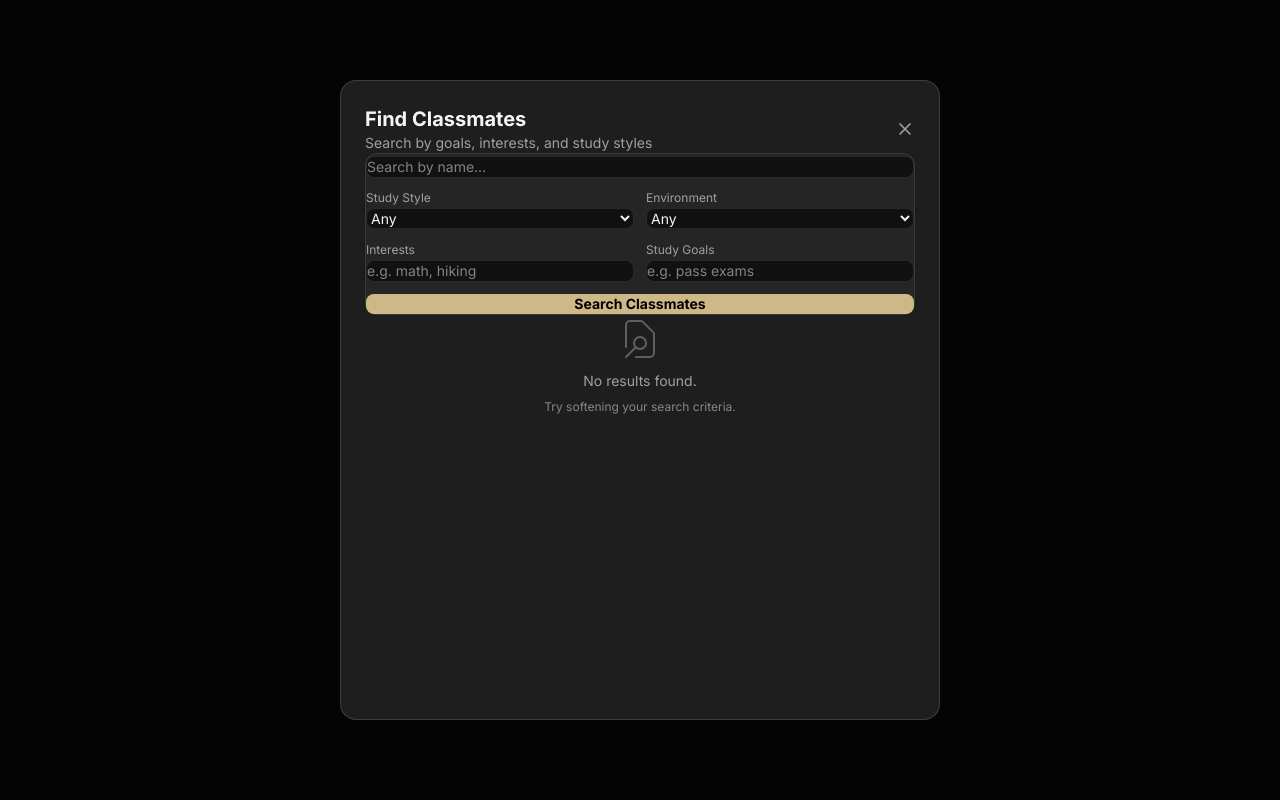
Test: ClassmateSearch Component › submits search criteria correctly and displays results
Expected: the button "Search Classmates" is shown, [366,294,914,314]
# Fill out the search form
Type "Test" into the field with placeholder "Search by name...". click: (640, 167)
box: [366,156,914,178]
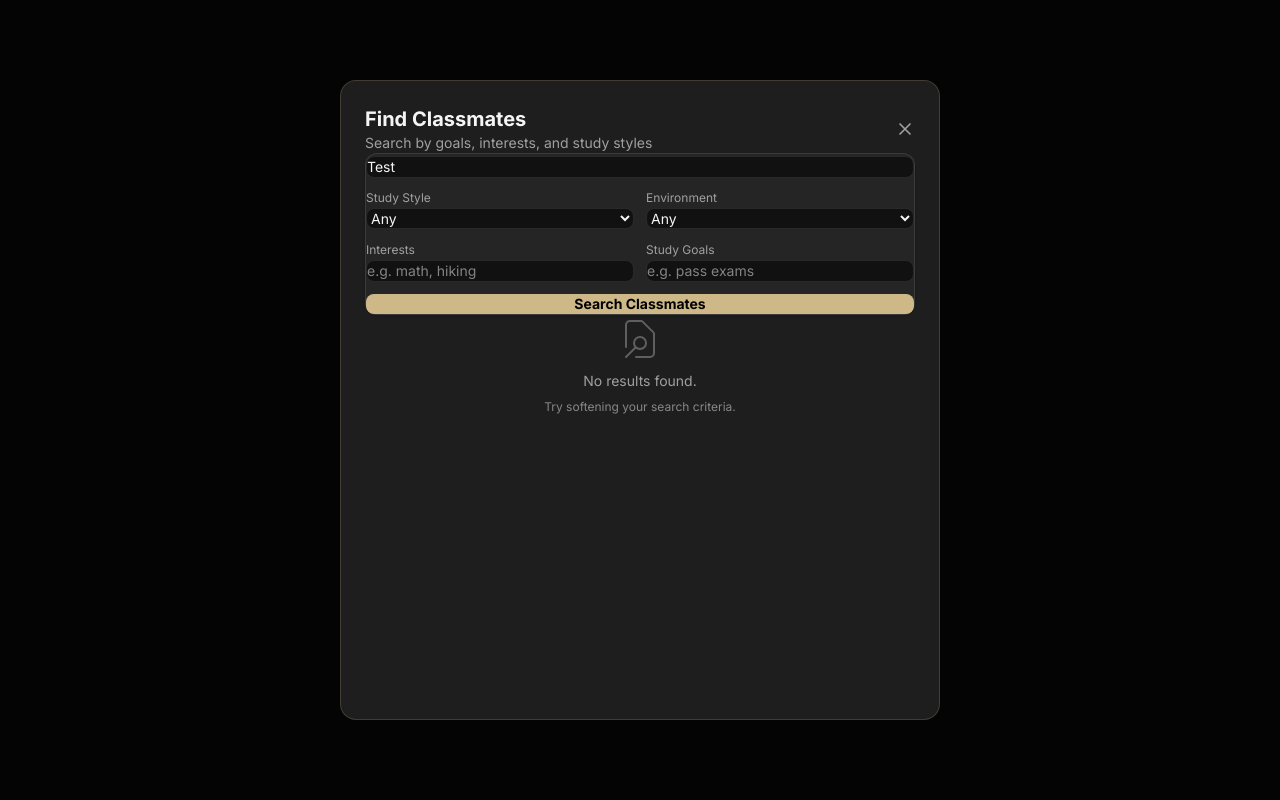
Type "coding" into the field with placeholder "e.g. math, hiking". click: (500, 271)
box: [366,260,634,282]
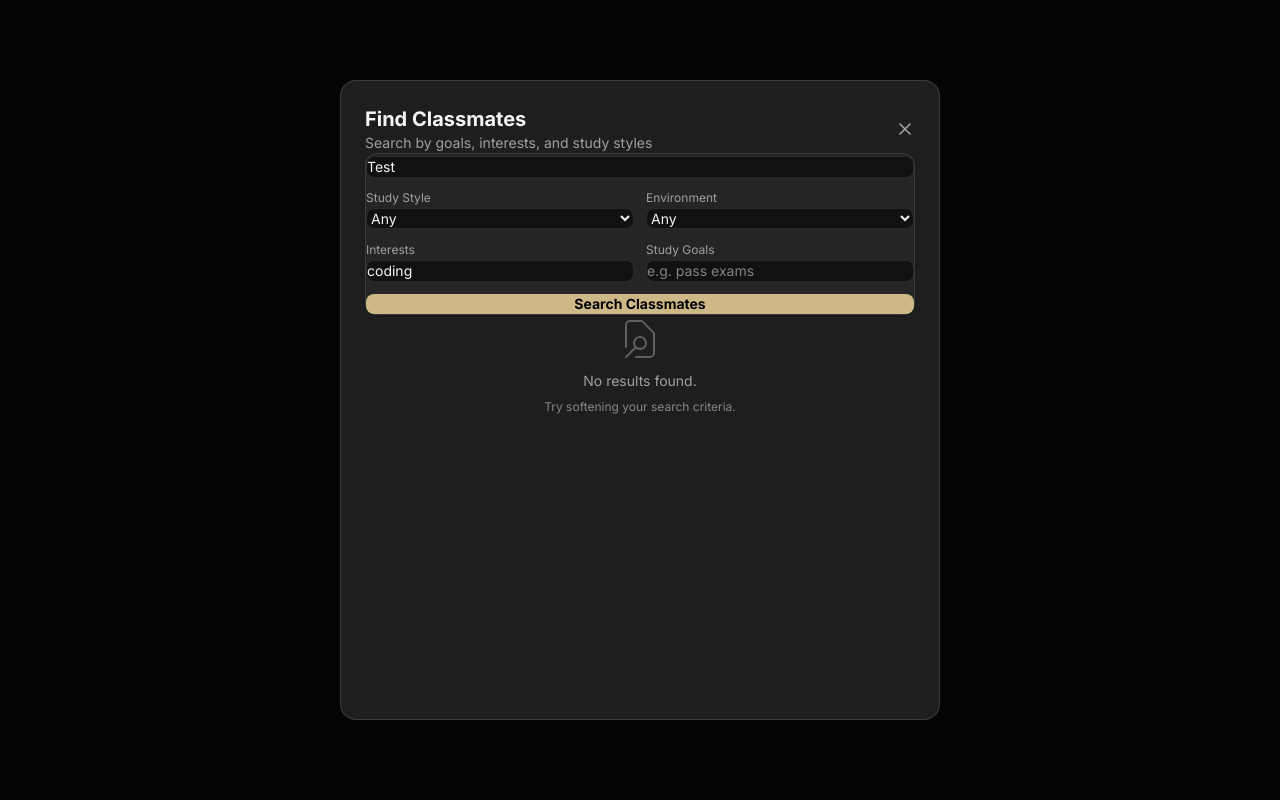
Click the button "Search Classmates". click: click(640, 304)
box: [366,294,914,314]
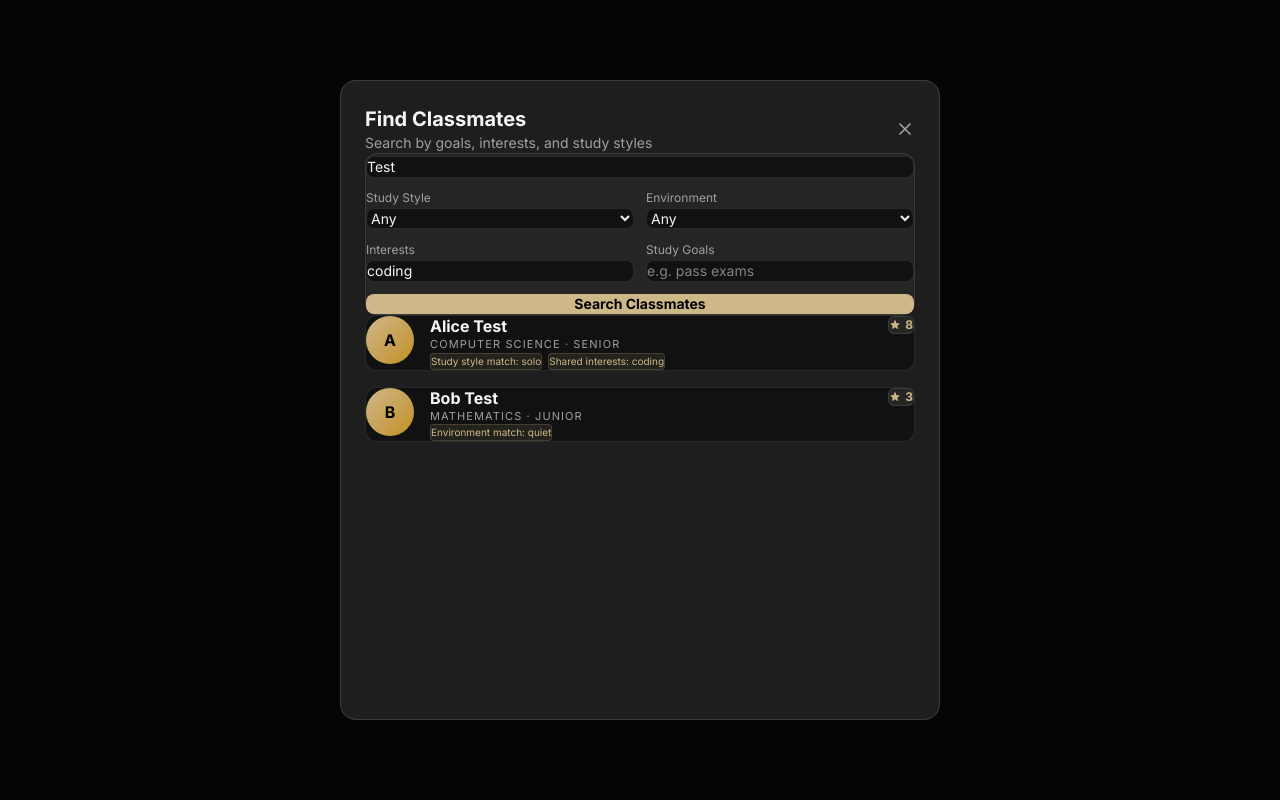
Now the heading "Alice Test" is shown, box [430,316,507,336]
Now the heading "Bob Test" is shown, box [430,388,498,408]
Now the text "Computer Science · Senior" is shown, box [430,336,620,352]
